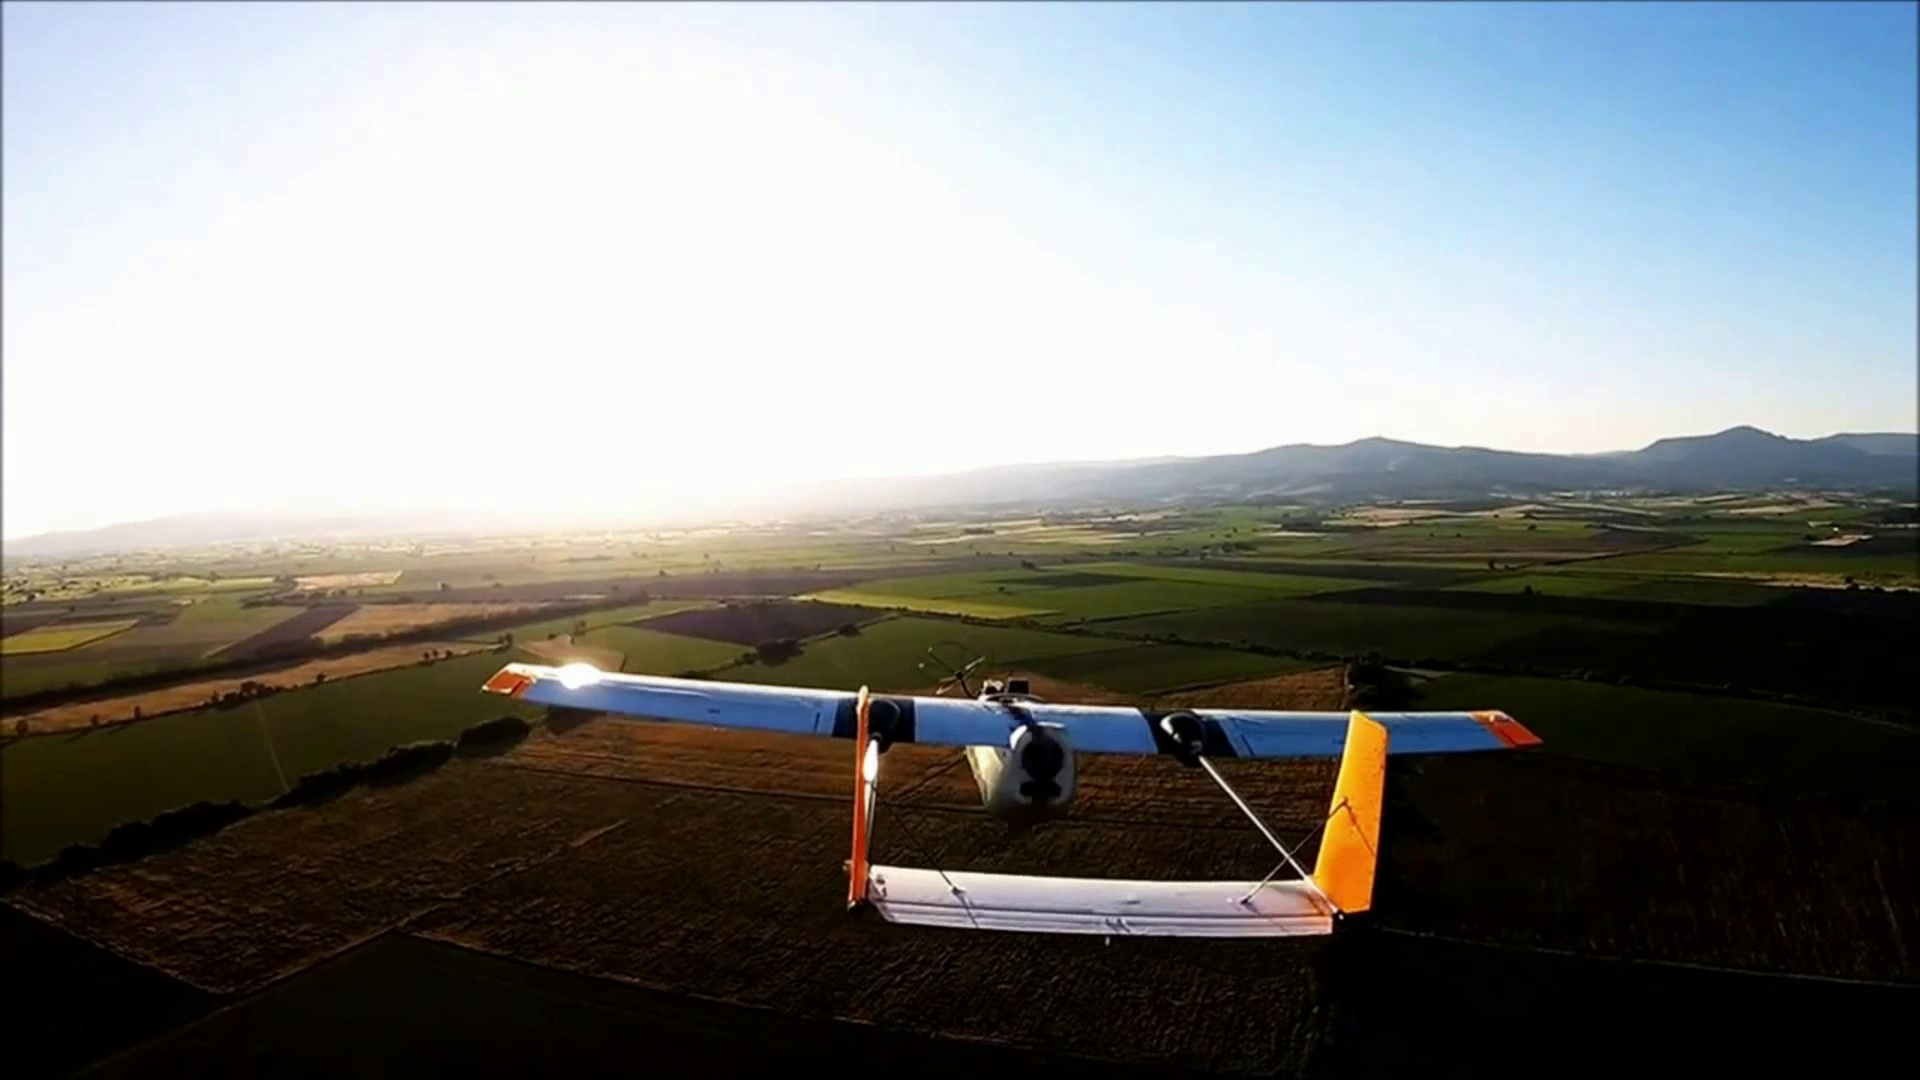airplane: (484, 658, 1541, 941)
